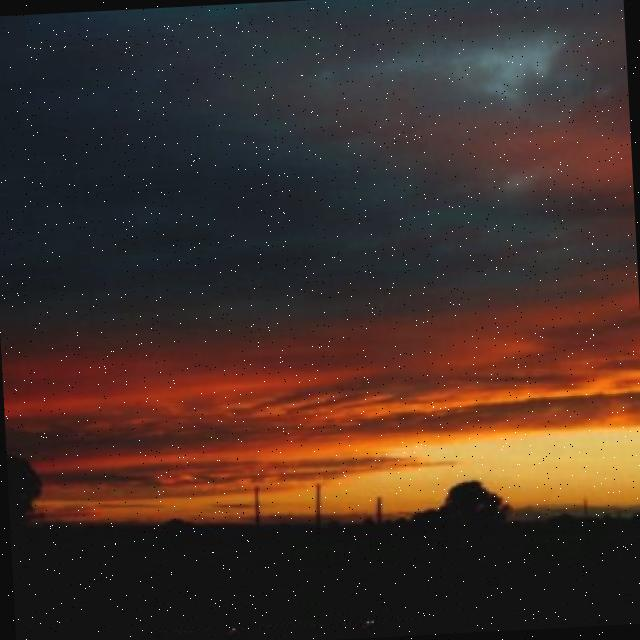As: (1, 57, 640, 474)
